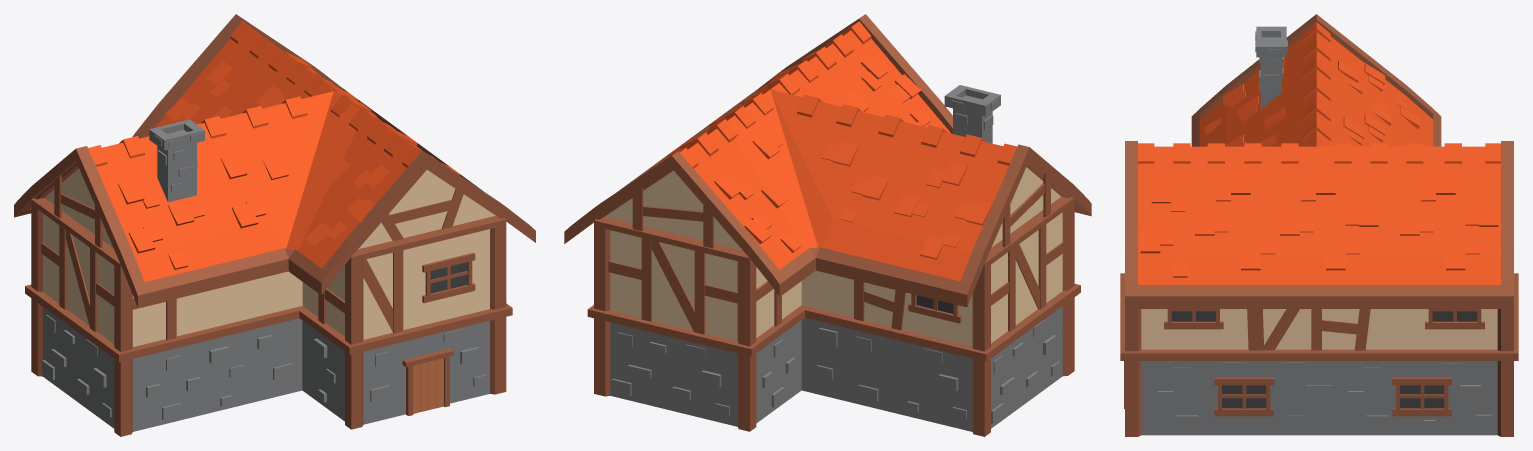
The model's file is HouseBig.fbx.
The picture shows the model from 3 angles, left to right: view 1: azimuth 30°, elevation 25°; view 2: azimuth 150°, elevation 25°; view 3: azimuth 270°, elevation 25°; orthographic projection.
Visible parts, largest first — view 1: HouseBig; view 2: HouseBig; view 3: HouseBig.
Part boxes in pixels (x1,y1,x2,y2): HouseBig: (14, 14, 535, 436); HouseBig: (564, 14, 1091, 436); HouseBig: (1120, 14, 1518, 436).
Size of the model in its own units: 1748 by 1228 by 1619.
